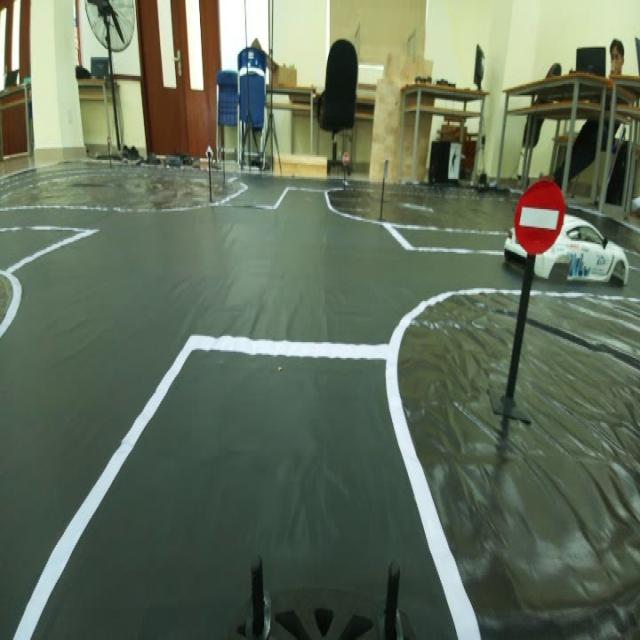no_entry: (511, 170, 565, 255)
